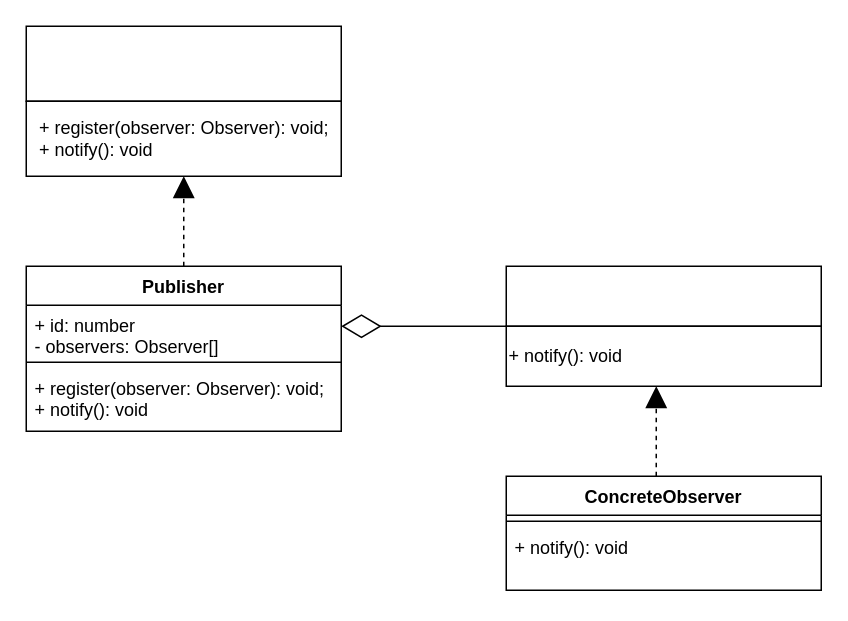
This 848x621 diagram has some shape labels left out. Each missing label, with the centre of its shape:
«interface» IPublisher: point 183,63
«interface» Observer: point 663,295
